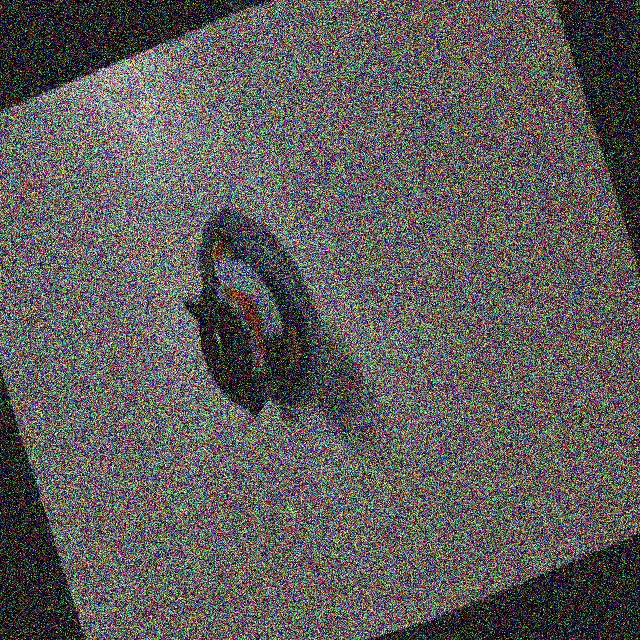Penguin: (143, 155, 354, 459)
